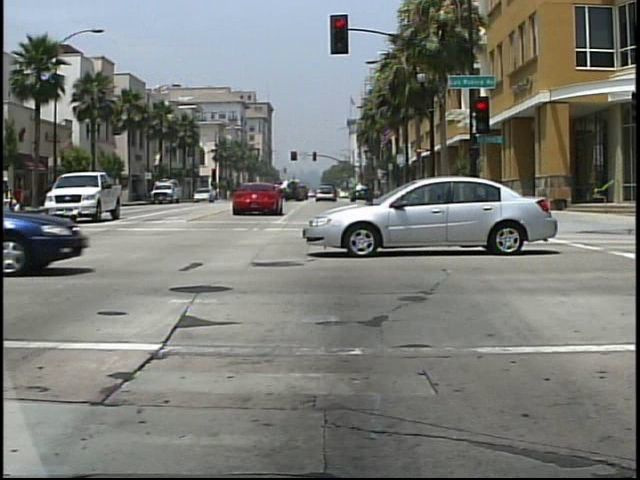person: (0, 173, 24, 229)
